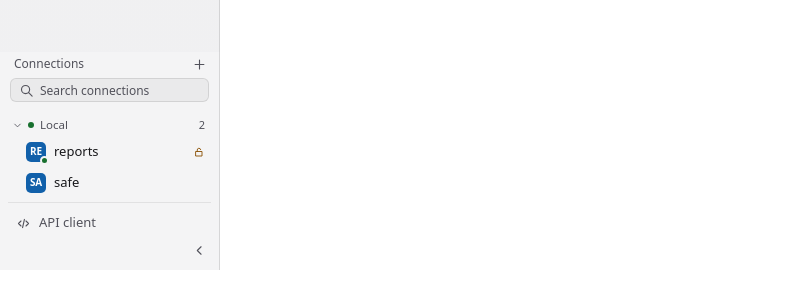
Test case: marks insecure connections in the row and names the reasons in the tooltip
Hover over the button with aria-label "Switch to reports" at (118, 152), box [26,138,211,166]
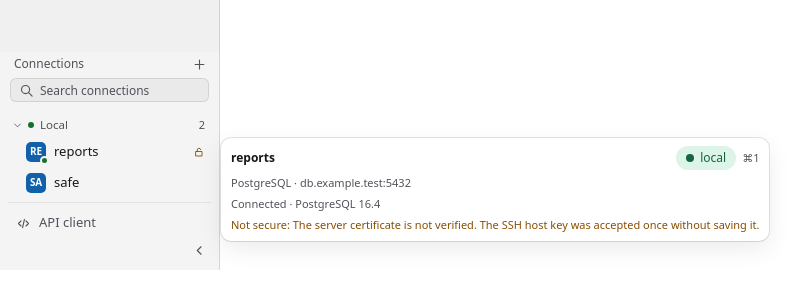
Expected: the tooltip shows "Not secure: The server certificate is not verified.", [231,217,760,232]
